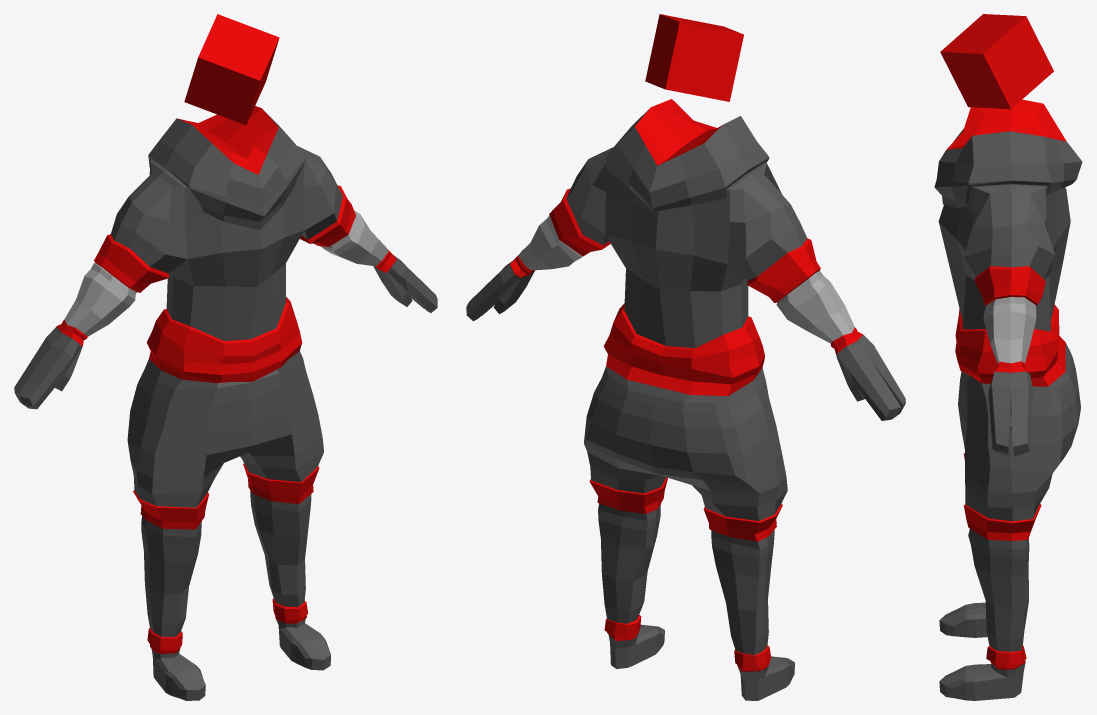
Rendered from SM_Player.fbx.
3 renders of one model, left to right at view 1: azimuth 30°, elevation 25°; view 2: azimuth 150°, elevation 25°; view 3: azimuth 270°, elevation 25°, orthographic. The views are drawn at different scales.
Parts seen in each view (by area): view 1: pCube4, pCube10; view 2: pCube4, pCube10; view 3: pCube4, pCube10.
Part boxes in pixels (x1,y1,x2,y2): pCube4: [14, 106, 437, 700]; pCube10: [184, 14, 279, 125]; pCube4: [466, 99, 905, 700]; pCube10: [645, 14, 743, 101]; pCube4: [934, 99, 1082, 700]; pCube10: [940, 14, 1053, 109].
Bounding box in the file's own units: 19.18 × 28.22 × 5.86.
